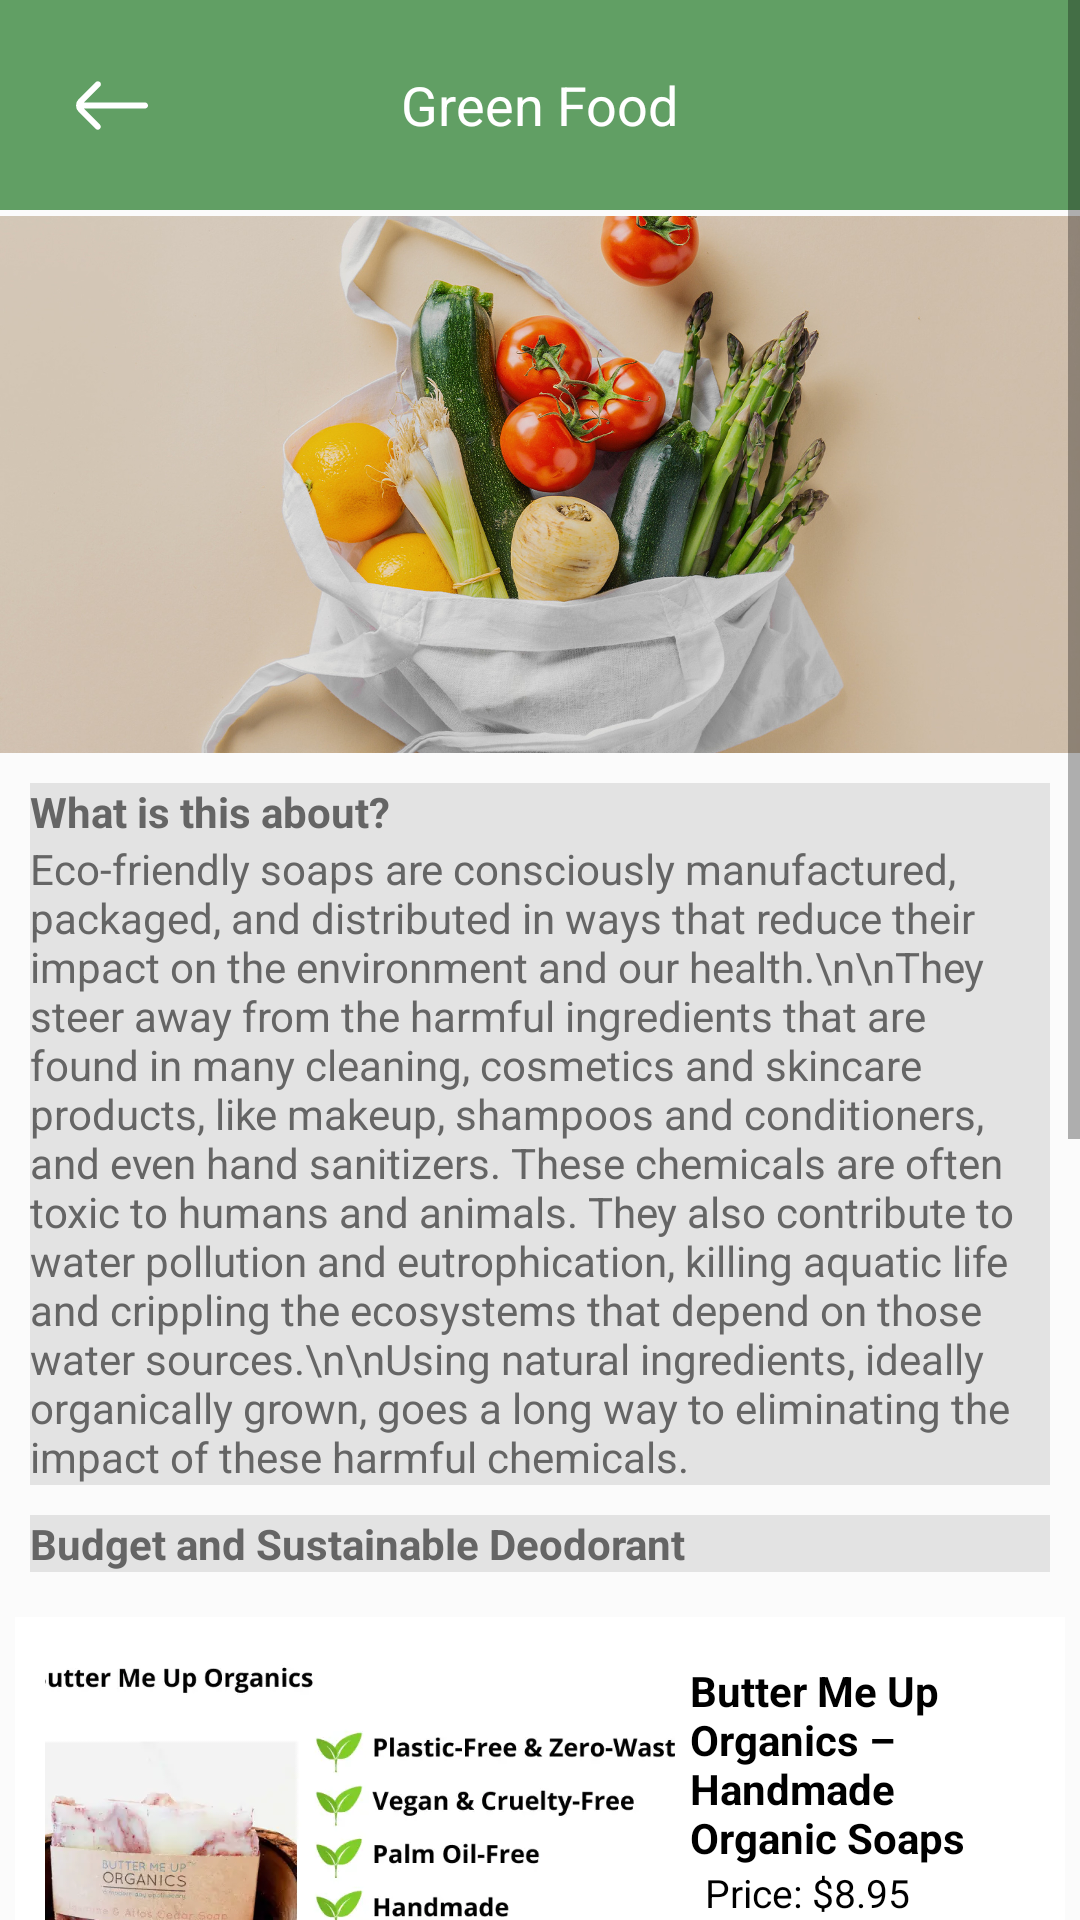

Icon click points for this 1080*1920 phone screenshot, format [x,y]:
return: [112,105]
